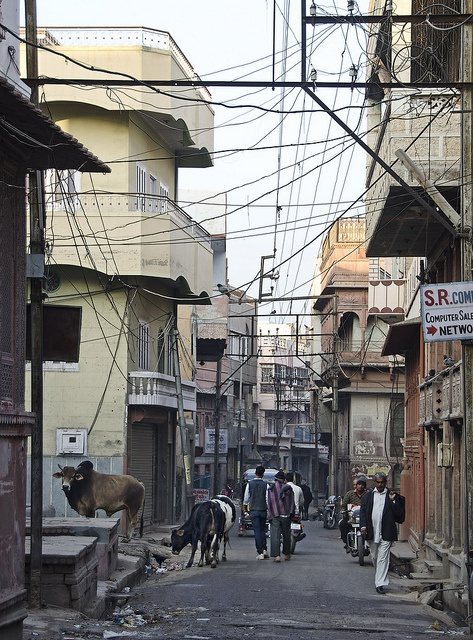non-vehicle: (341, 508, 369, 567), (322, 496, 344, 528), (290, 514, 307, 553), (220, 483, 233, 498)
